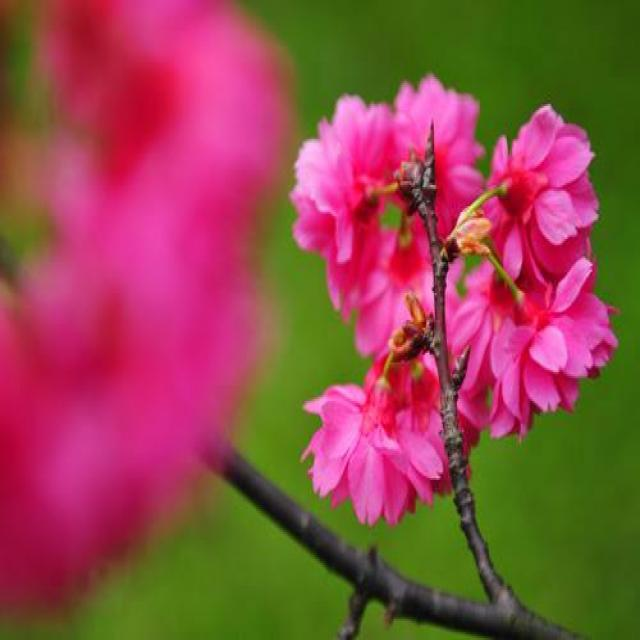organic waste: (436, 200, 612, 438), (286, 313, 456, 526), (378, 52, 496, 291), (473, 97, 616, 263), (298, 106, 398, 299)
